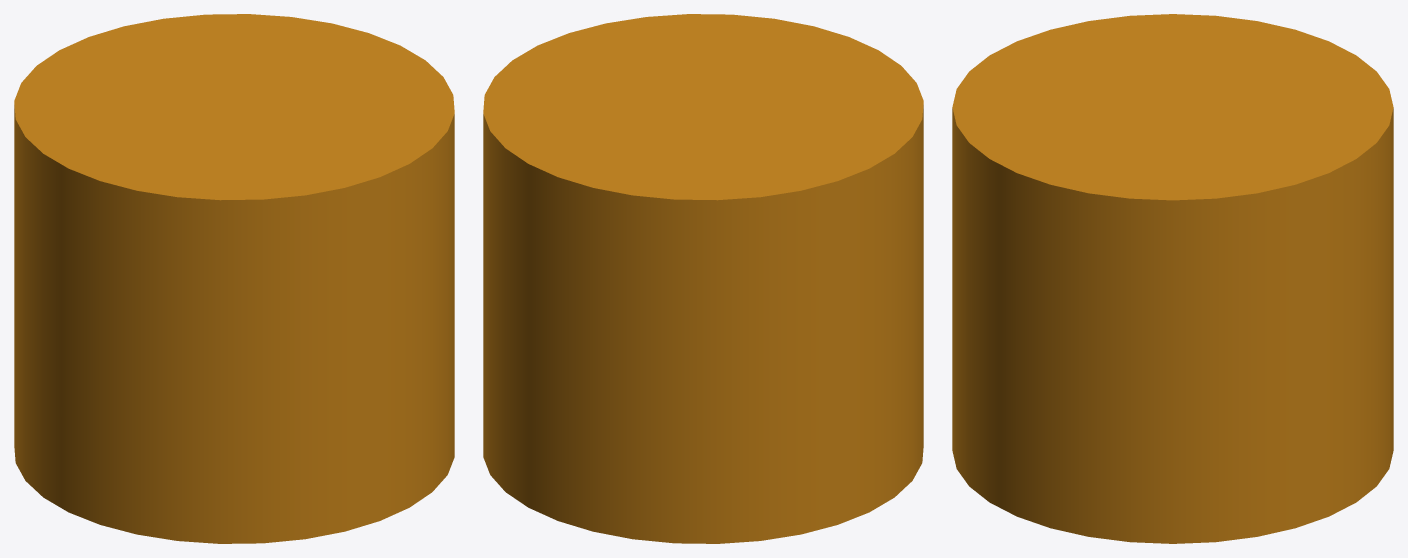
Rendered from SM_baril_hitbox.FBX.
3 views of the same model, side by side, from view 1: azimuth 30°, elevation 25°; view 2: azimuth 150°, elevation 25°; view 3: azimuth 270°, elevation 25° (orthographic).
Parts seen in each view (by area): view 1: baril_hitbox; view 2: baril_hitbox; view 3: baril_hitbox.
Boxes of the visible parts, x1,y1,x2,y2 form: baril_hitbox: (14, 14, 454, 543); baril_hitbox: (483, 14, 923, 543); baril_hitbox: (952, 14, 1393, 543).
Bounding box in the file's own units: 435 × 374 × 435.
